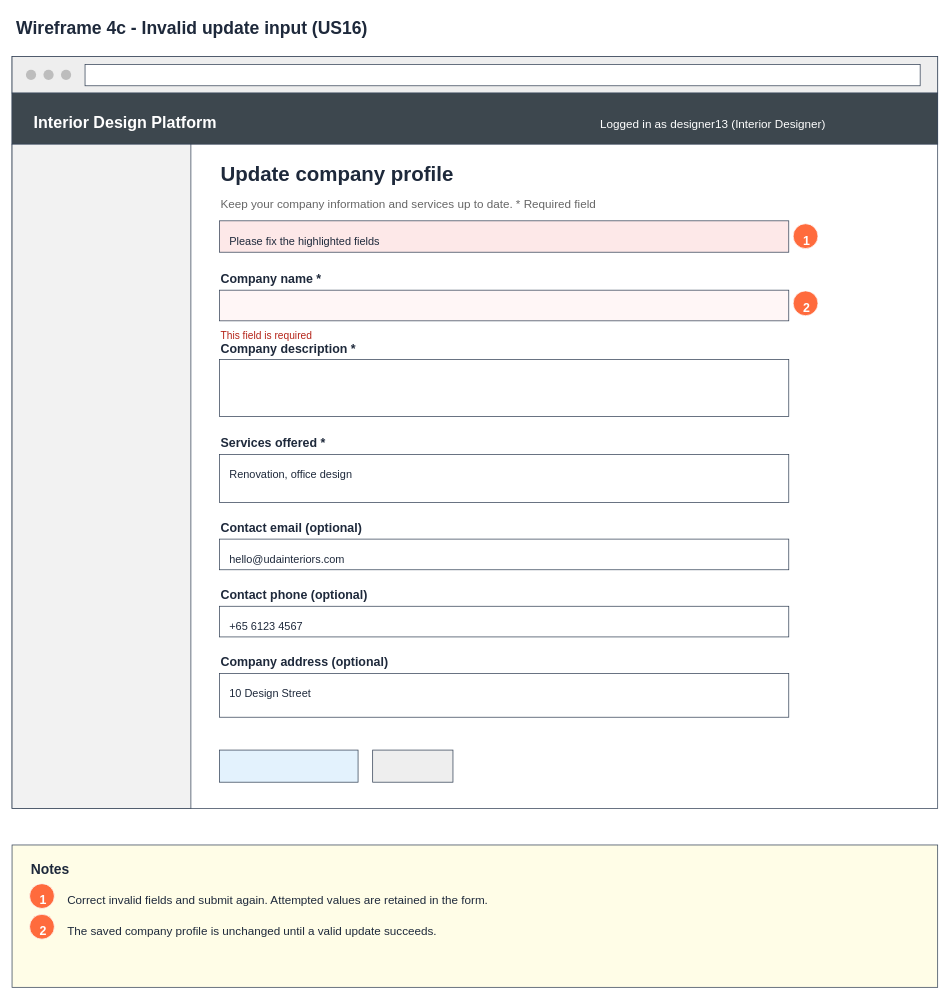
The diagram is 950 pixels wide and 999 high, and some of its shapes have lost their labels. The shapes that lost their labels are listed below. From the top down, each one's centre as x and y in pixels, then its label:
the point at 502,75: localhost:5000/designer/company/update
the point at 504,387: Modern homes and offices.
the point at 101,475: Dashboard
the point at 288,765: Save changes
the point at 412,765: Cancel
